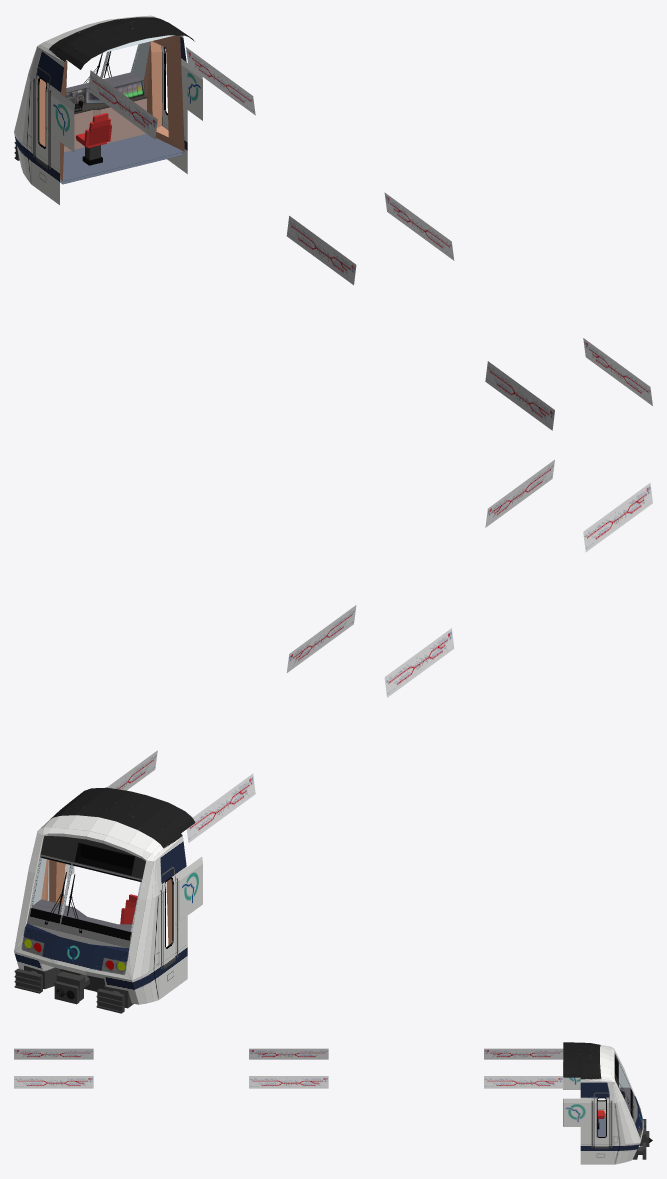
Rendered from mi2n_ratp_obj.obj.
The picture shows the model from 3 angles, top to bottom: view 1: azimuth 30°, elevation 25°; view 2: azimuth 150°, elevation 25°; view 3: azimuth 270°, elevation 25°; orthographic projection. The views are drawn at different scales.
Visible parts, largest first — view 1: car1_exterior, car1_interior, internal_signs; view 2: car1_exterior, internal_signs, car1_interior; view 3: car1_exterior, internal_signs, car1_interior.
Boxes of the visible parts, box(x1,y1,x2,y2) form: car1_exterior: box(14, 15, 202, 204); car1_interior: box(38, 28, 184, 181); internal_signs: box(88, 47, 652, 430); car1_exterior: box(14, 787, 202, 1013); internal_signs: box(107, 459, 652, 842); car1_interior: box(30, 831, 173, 965); car1_exterior: box(563, 1042, 652, 1164); internal_signs: box(14, 1048, 563, 1088); car1_interior: box(597, 1063, 630, 1144).
Bounding box in the file's own units: 2.9 × 3.44 × 21.08.
2 materials, 2 textured.
